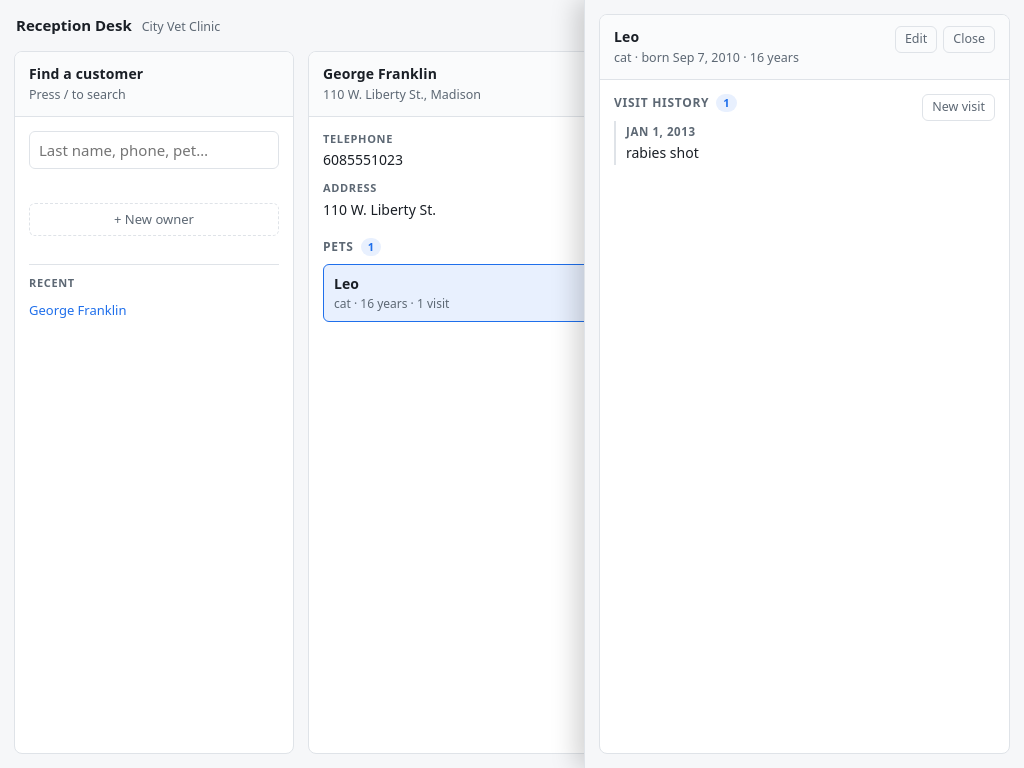
Test: reception desk workflow › keeps the visit form filled when recording fails, then retries
Click the button "New visit": (959, 108) [922,94,995,121]
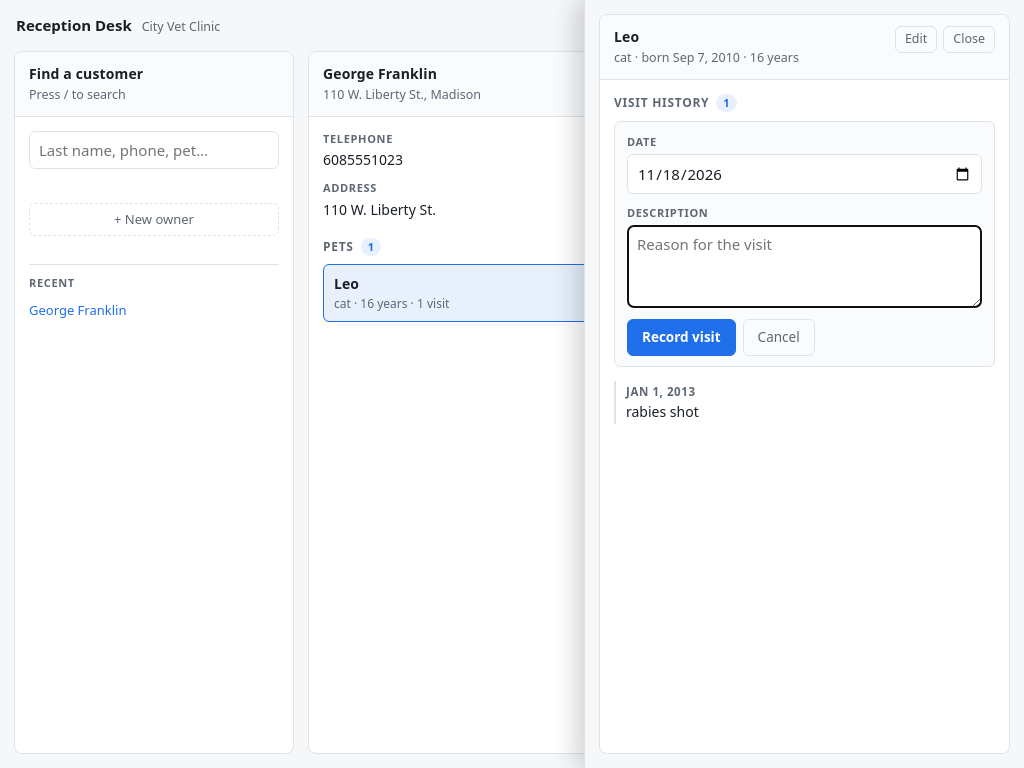
In the text box labelled "Description": (804, 267) [627,225,982,308], type "Annual vaccination"
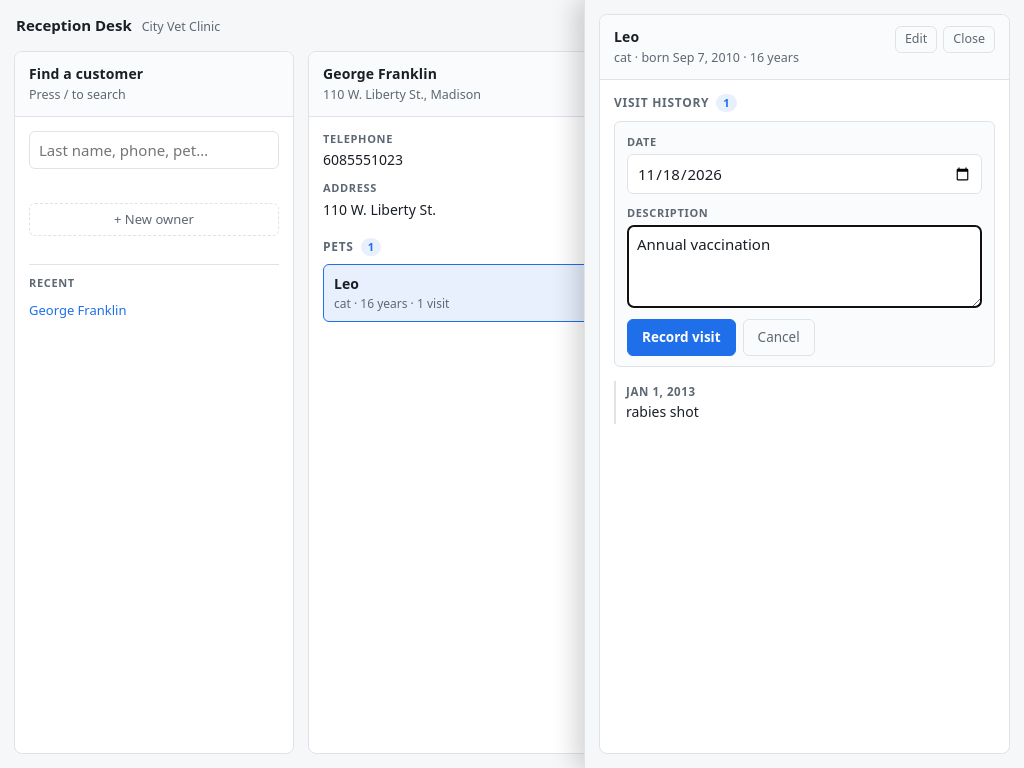
Click the button "Record visit": (681, 337) [627,319,736,356]
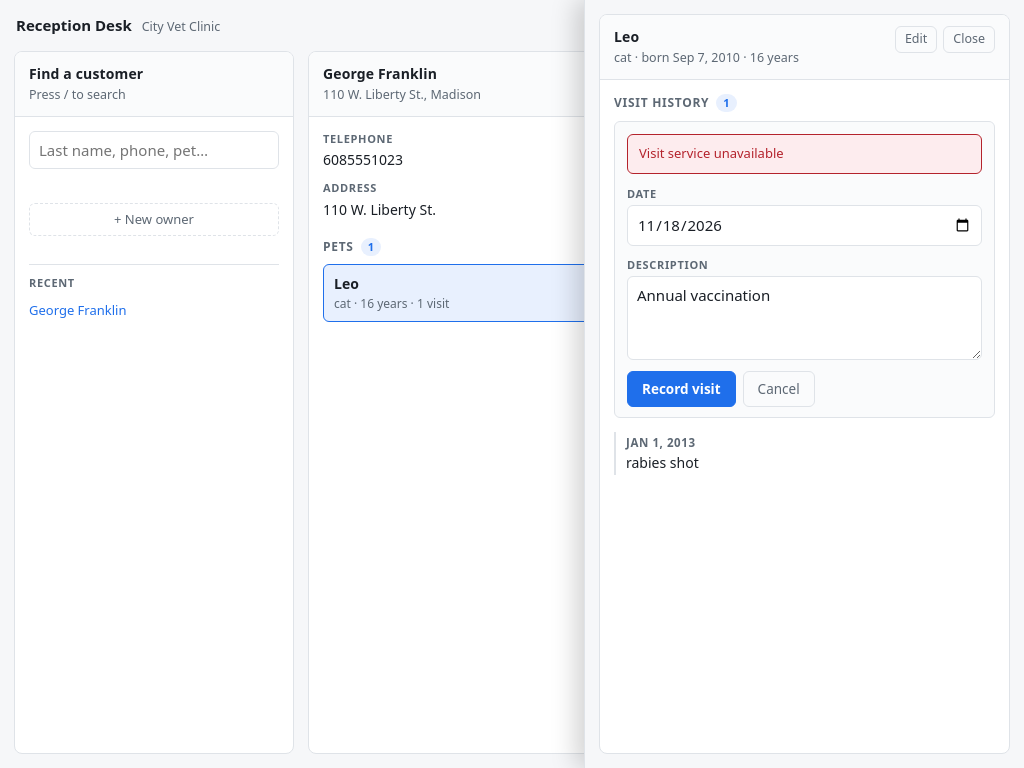
Expected: the date field labelled "Date" is not empty, [627,205,982,246]
Expected: the text "Visit service unavailable" is shown, [639,144,784,162]
// And the retry is a real second request that actually lands in history.
Click the button "Record visit": (681, 389) [627,371,736,407]
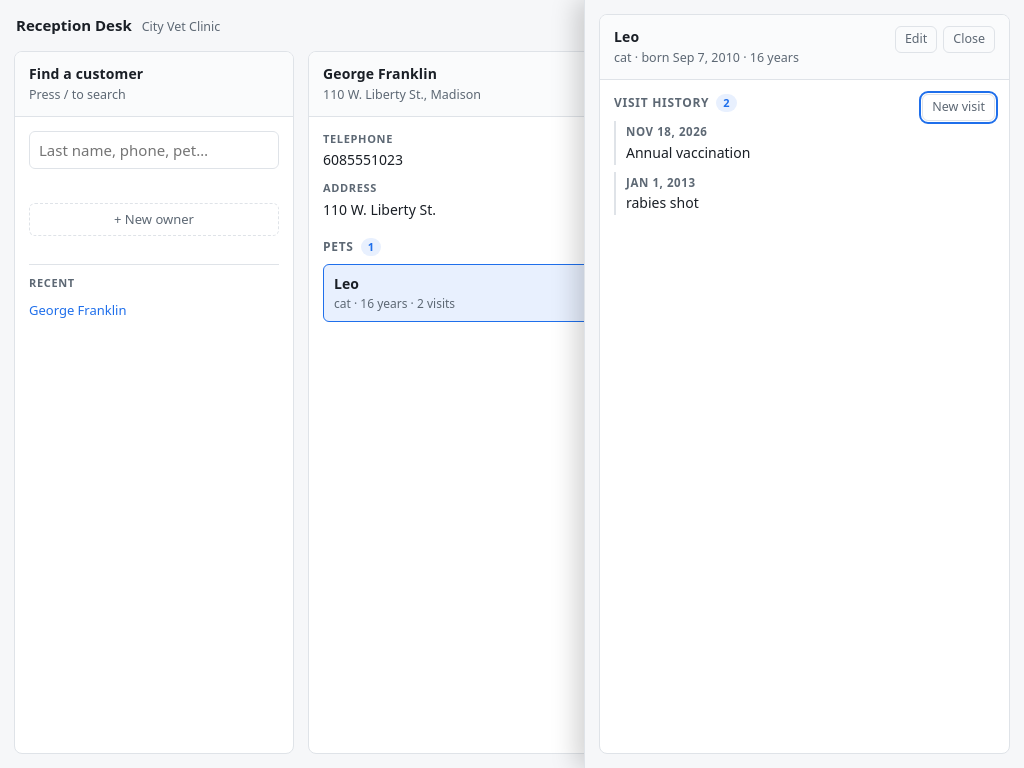
Expected: the text "Annual vaccination" is shown, [626,142,750,162]
